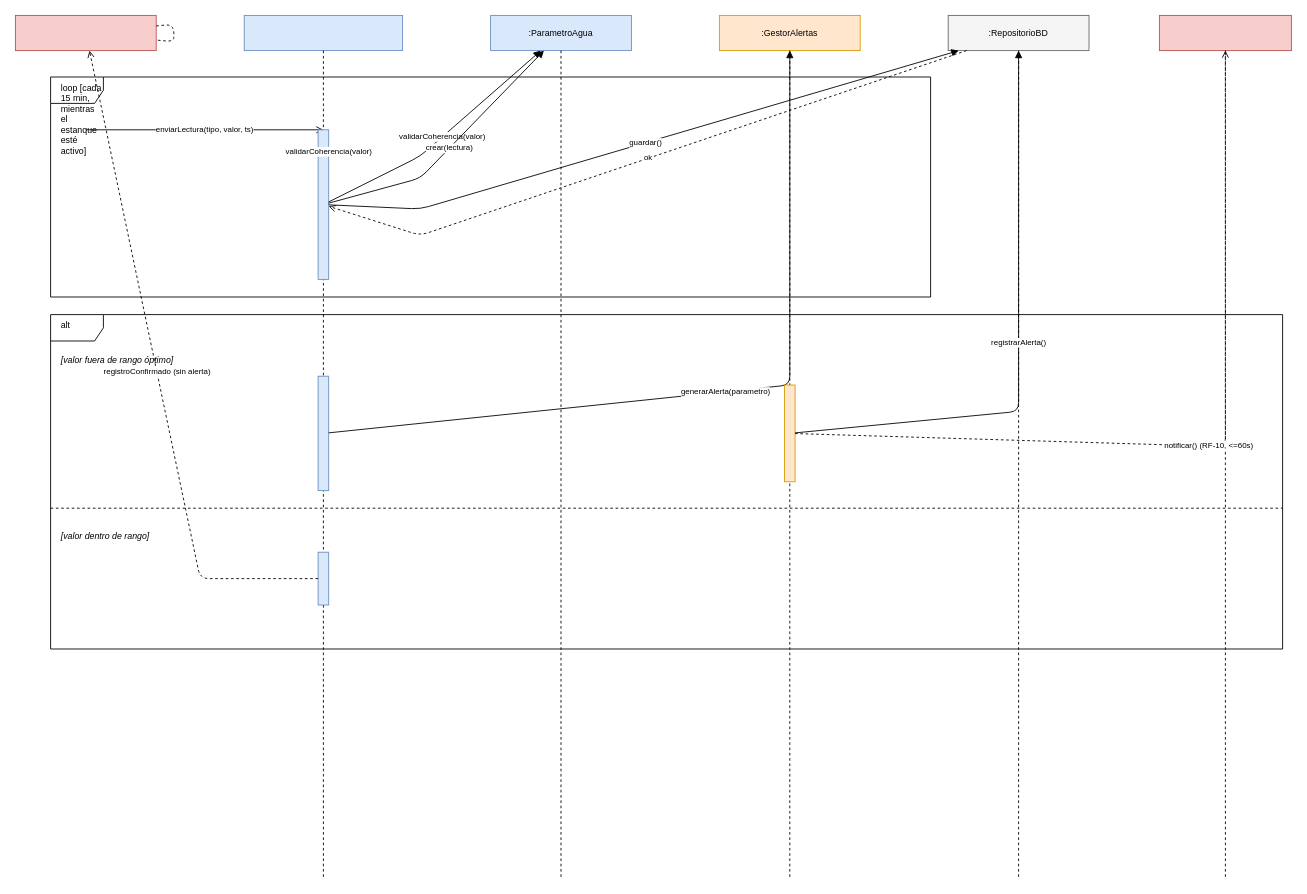
Image size: 1307x894. Some labels were removed from this diagram. The shapes that lost their labels are listed below. From the top down, each one's centre as x and y in pixels, then its label:
At point 85,33: "sensor : SensorIoT".
At point 323,33: ":ControladorMonitoreo".
At point 1225,33: "Técnico Acuícola".
